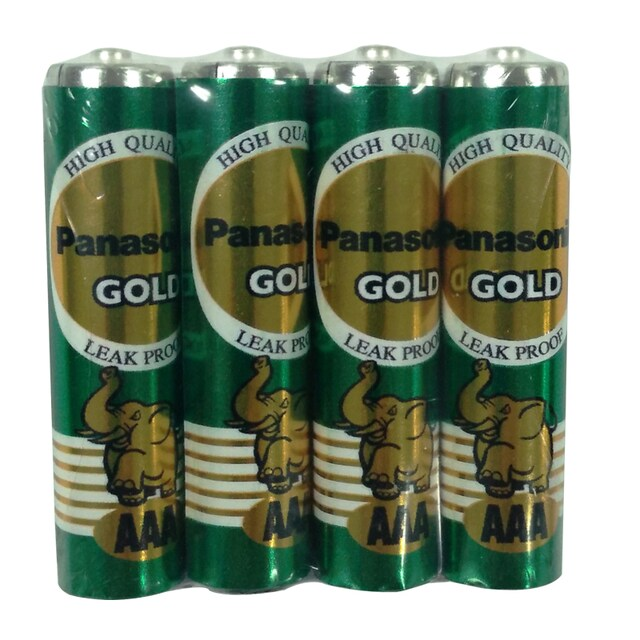Battery: (41, 46, 182, 601), (173, 42, 311, 596), (309, 43, 442, 596), (439, 43, 572, 593)
